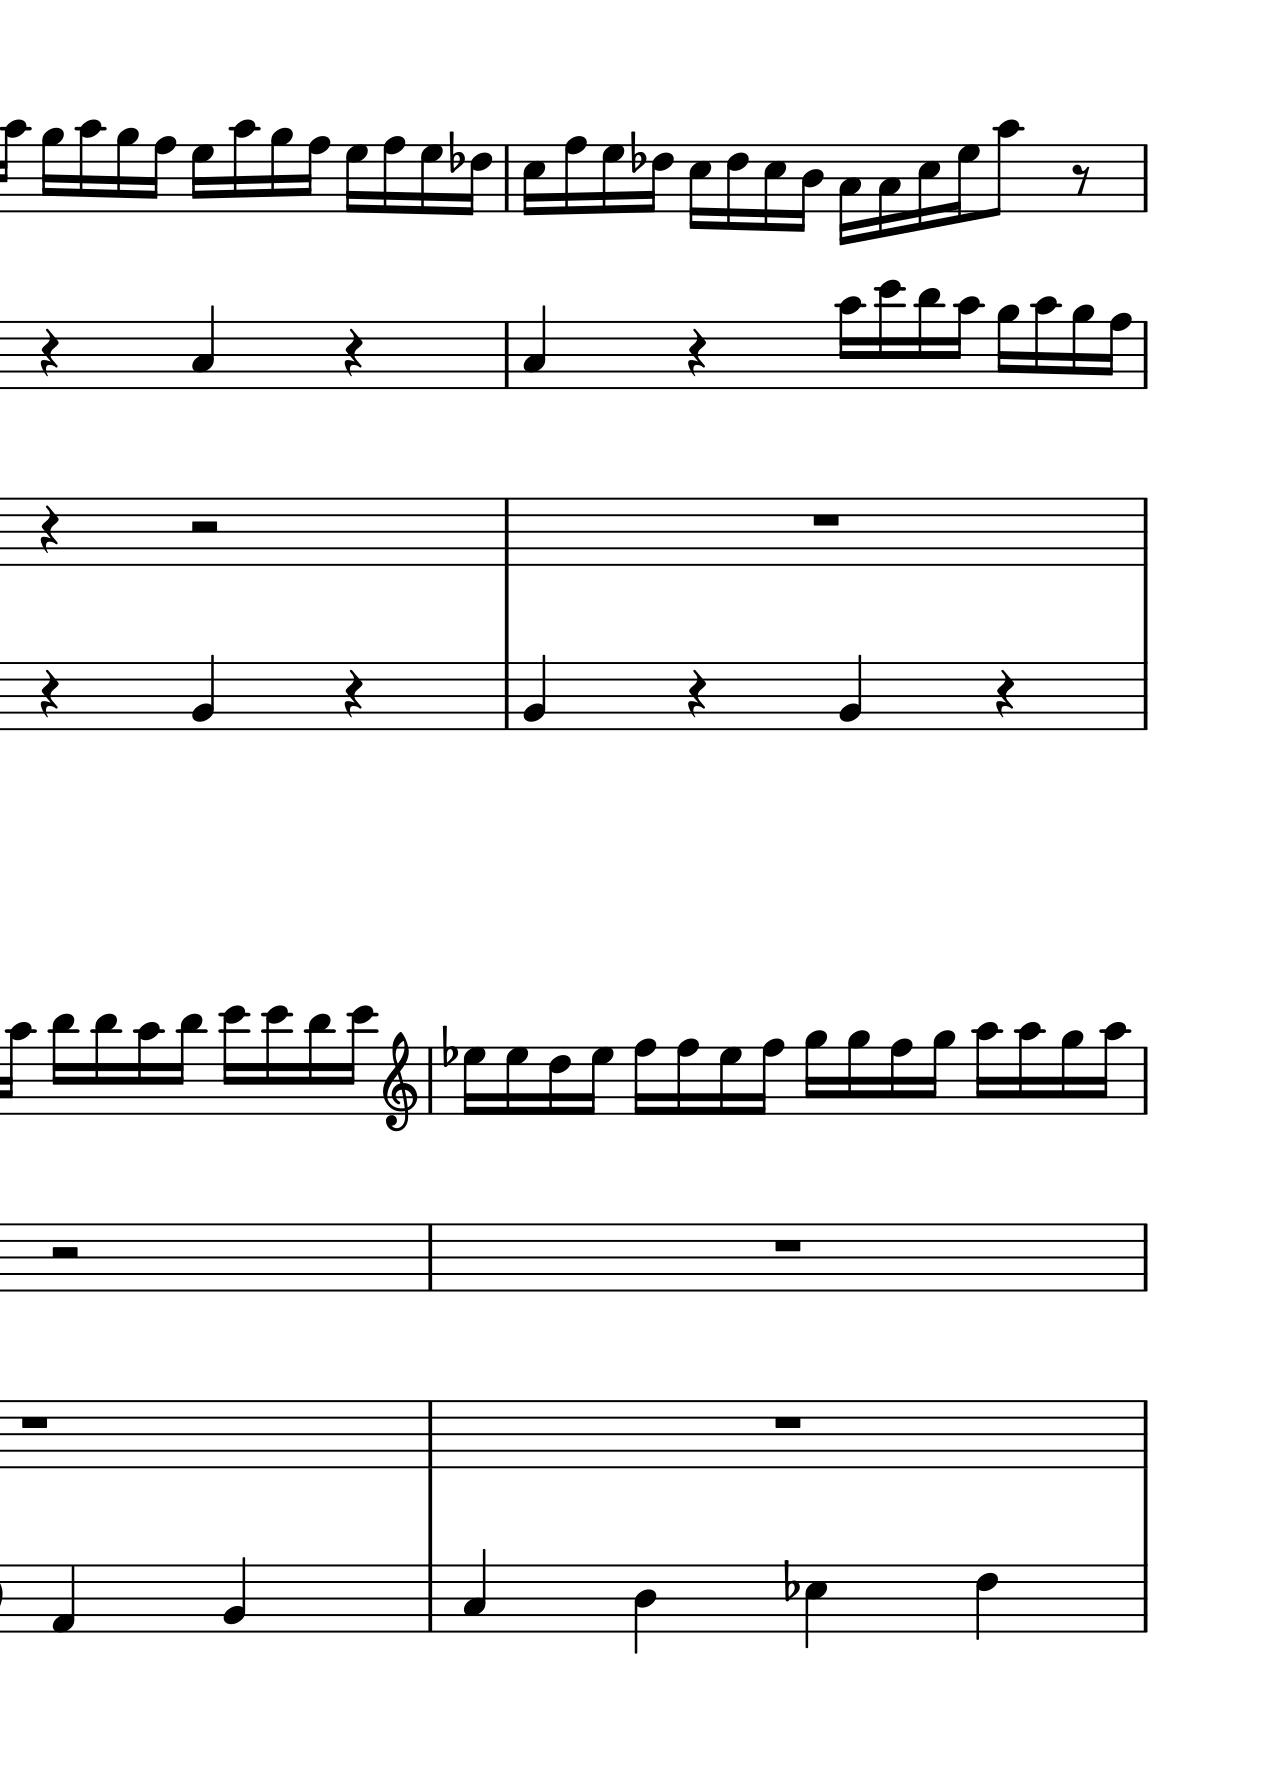16_10: (1096, 1020, 1129, 1117), (950, 295, 983, 391), (1030, 293, 1061, 391), (1, 1019, 33, 1116), (75, 118, 106, 214), (229, 118, 259, 214), (834, 293, 862, 392), (1013, 1020, 1042, 1116), (1, 118, 29, 213), (134, 1020, 162, 1115), (972, 1021, 1000, 1116)
16_11: (170, 1010, 204, 1117), (90, 1010, 121, 1117), (48, 1012, 77, 1117), (303, 1012, 332, 1117), (913, 287, 942, 391)
16_12: (339, 1004, 376, 1117), (873, 277, 904, 392), (261, 1002, 289, 1117), (219, 1004, 248, 1117)
16_3: (836, 143, 861, 247), (875, 143, 901, 240)
16_4: (793, 144, 823, 234)
16_5: (915, 143, 941, 233), (686, 143, 712, 230), (761, 143, 786, 233), (520, 143, 544, 218)
16_6: (459, 143, 492, 217), (640, 143, 673, 213), (724, 143, 749, 230), (546, 1043, 570, 1117)
16_7: (948, 143, 978, 226), (581, 1045, 613, 1117), (188, 143, 214, 215), (341, 143, 367, 215), (459, 1045, 485, 1117), (417, 143, 442, 217), (503, 1043, 528, 1117), (717, 1045, 742, 1117), (599, 143, 623, 217)
16_8: (751, 1037, 783, 1117), (1098, 313, 1131, 389), (299, 134, 330, 214), (145, 134, 176, 214), (562, 134, 587, 217), (380, 134, 405, 215), (631, 1037, 655, 1117), (675, 1037, 699, 1117), (889, 1037, 912, 1117)
16_9: (926, 1030, 954, 1117), (1068, 303, 1094, 391), (1059, 1030, 1085, 1117), (267, 128, 293, 214), (38, 128, 64, 213), (114, 126, 138, 214), (995, 303, 1020, 391), (802, 1030, 827, 1116), (846, 1030, 871, 1116)
4_1: (49, 1563, 77, 1634)
4_2: (836, 653, 865, 734), (191, 653, 218, 734), (221, 1553, 248, 1634), (521, 653, 548, 732)
4_3: (189, 304, 217, 391), (461, 1547, 487, 1634), (521, 304, 547, 391)
4_4: (631, 1563, 657, 1656)
4_5: (802, 1562, 827, 1649)
4_6: (974, 1562, 1000, 1643)
8_10: (985, 119, 1020, 219)
Flat: (446, 129, 463, 175), (782, 1558, 799, 1604), (627, 129, 644, 174), (439, 1024, 457, 1069)
Gclef: (381, 1031, 418, 1133)
Rests1: (808, 509, 845, 531), (769, 1235, 805, 1256), (769, 1411, 805, 1431), (16, 1412, 52, 1431)
Rests2: (185, 517, 222, 537), (47, 1244, 82, 1261)
Rests4: (37, 668, 60, 718), (993, 669, 1016, 718), (341, 326, 363, 378), (686, 326, 708, 378), (341, 668, 363, 718), (686, 668, 708, 718), (38, 326, 59, 378), (38, 505, 59, 555)
Rests8: (1070, 162, 1091, 196)
Single_barline: (420, 1224, 442, 1292), (495, 499, 517, 565), (1134, 1223, 1155, 1292), (1134, 1048, 1155, 1115), (1134, 1401, 1155, 1468), (420, 1403, 440, 1468), (1135, 321, 1155, 389), (496, 145, 516, 213), (1135, 498, 1155, 565), (420, 1564, 439, 1632), (1135, 145, 1155, 211), (496, 664, 516, 729), (1135, 1564, 1153, 1632), (1135, 664, 1153, 729), (420, 1048, 437, 1113), (498, 324, 516, 388)
